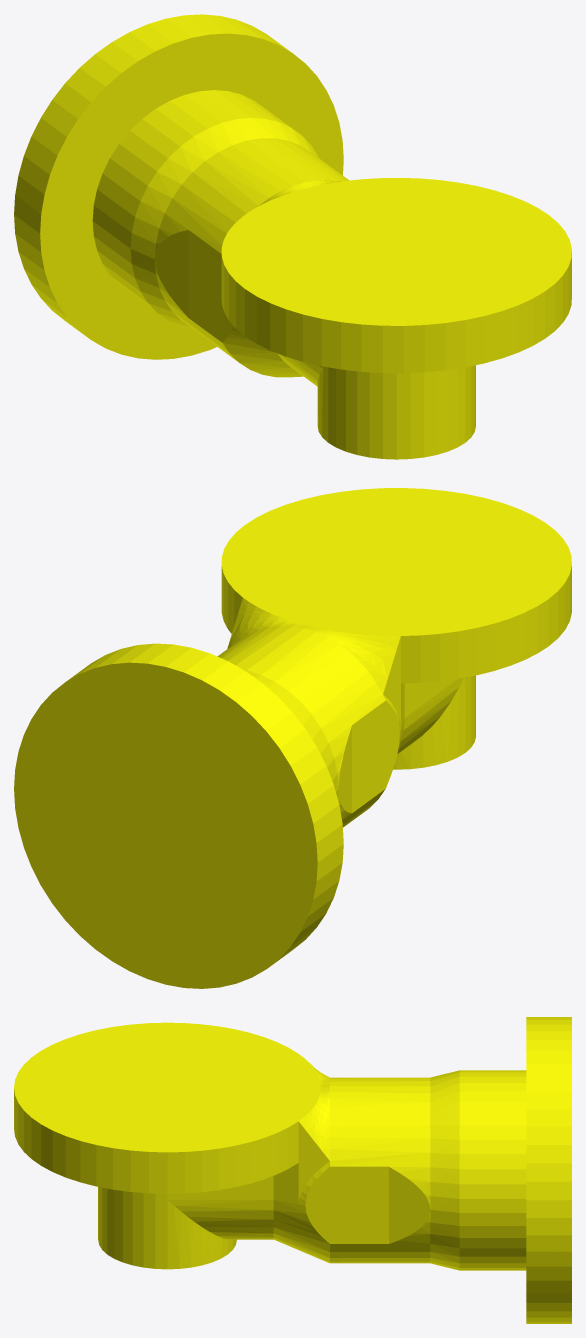
3 renders of one model, top to bottom at view 1: azimuth 30°, elevation 25°; view 2: azimuth 150°, elevation 25°; view 3: azimuth 270°, elevation 25°, orthographic. The views are drawn at different scales.
Parts seen in each view (by area): view 1: node; view 2: node; view 3: node.
Boxes of the visible parts, <box> form: node: <box>14,14,571,459</box>; node: <box>14,488,571,988</box>; node: <box>14,1017,571,1323</box>.
Size of the model in its own units: 208 by 208 by 378.
